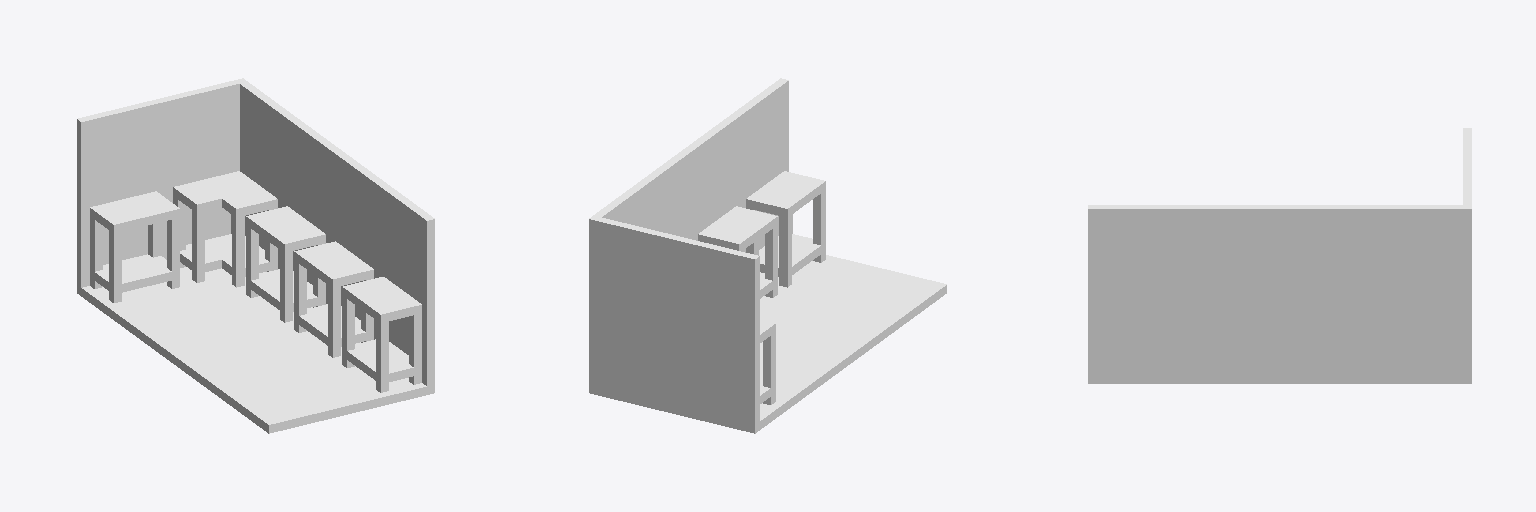
The model's file is level_three-10.obj.
3 renders of one model, left to right at view 1: azimuth 30°, elevation 25°; view 2: azimuth 150°, elevation 25°; view 3: azimuth 270°, elevation 25°, orthographic.
Visible parts, largest first — view 1: level_three-10; view 2: level_three-10; view 3: level_three-10.
Boxes of the visible parts, x1,y1,x2,y2 form: level_three-10: [77, 78, 434, 433]; level_three-10: [589, 78, 946, 433]; level_three-10: [1088, 128, 1471, 383].
Bounding box in the file's own units: 20 × 20 × 40.